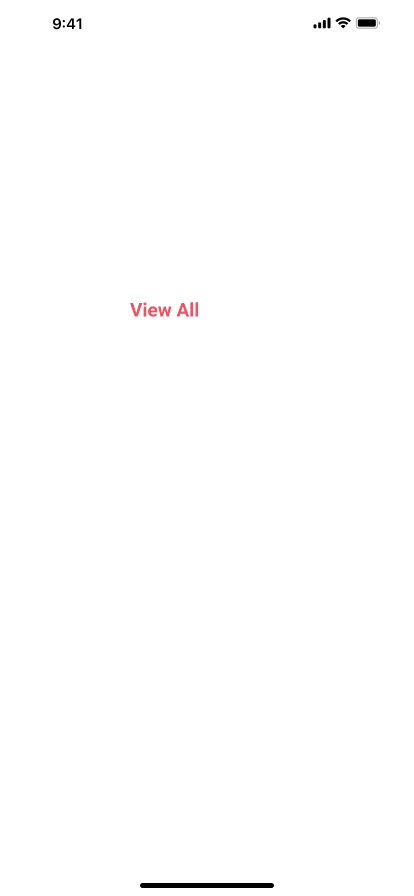Buttons: (8, 290, 322, 331)
Home Indicator: (0, 862, 414, 896)
Status Bar: (0, 0, 414, 44)
